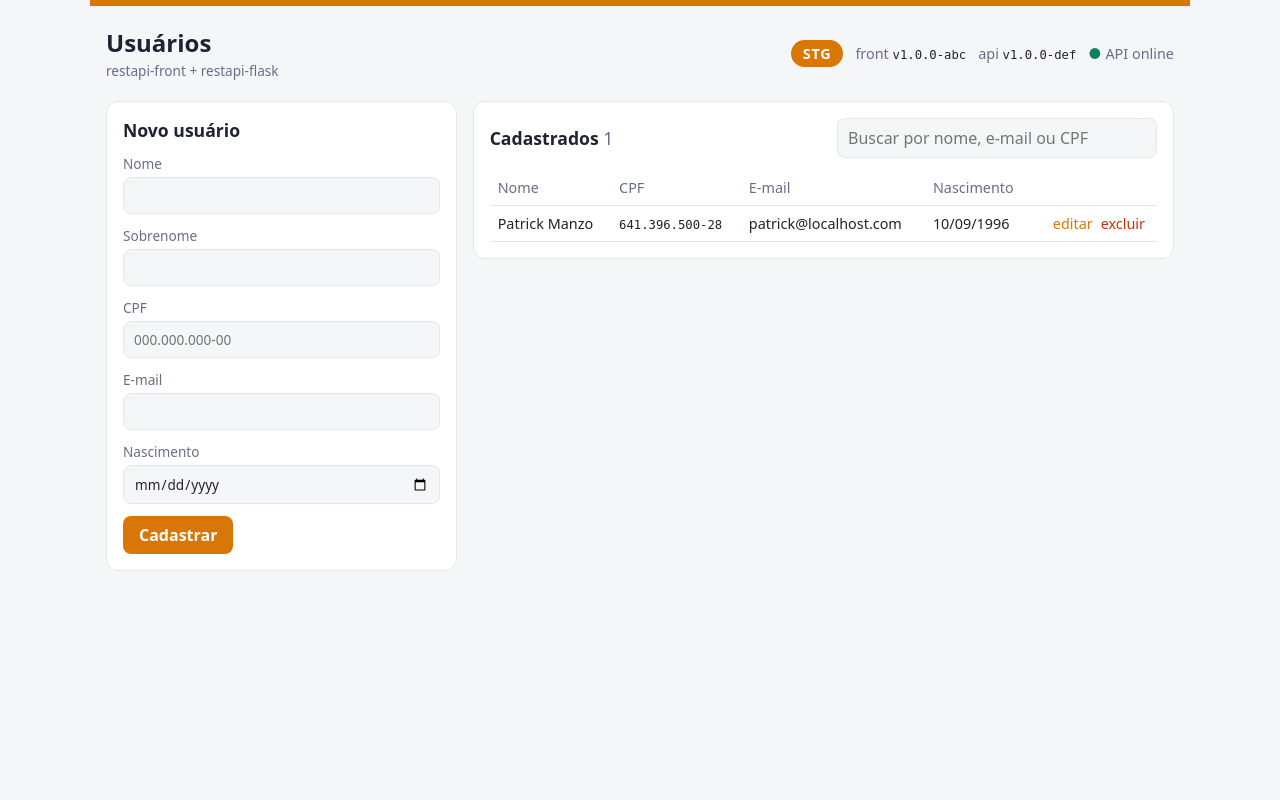
Scenario: App › mostra o erro da API ao cadastrar
Type "Patrick" into the field labelled "Nome". click: (281, 196)
box: [123,177,440,214]
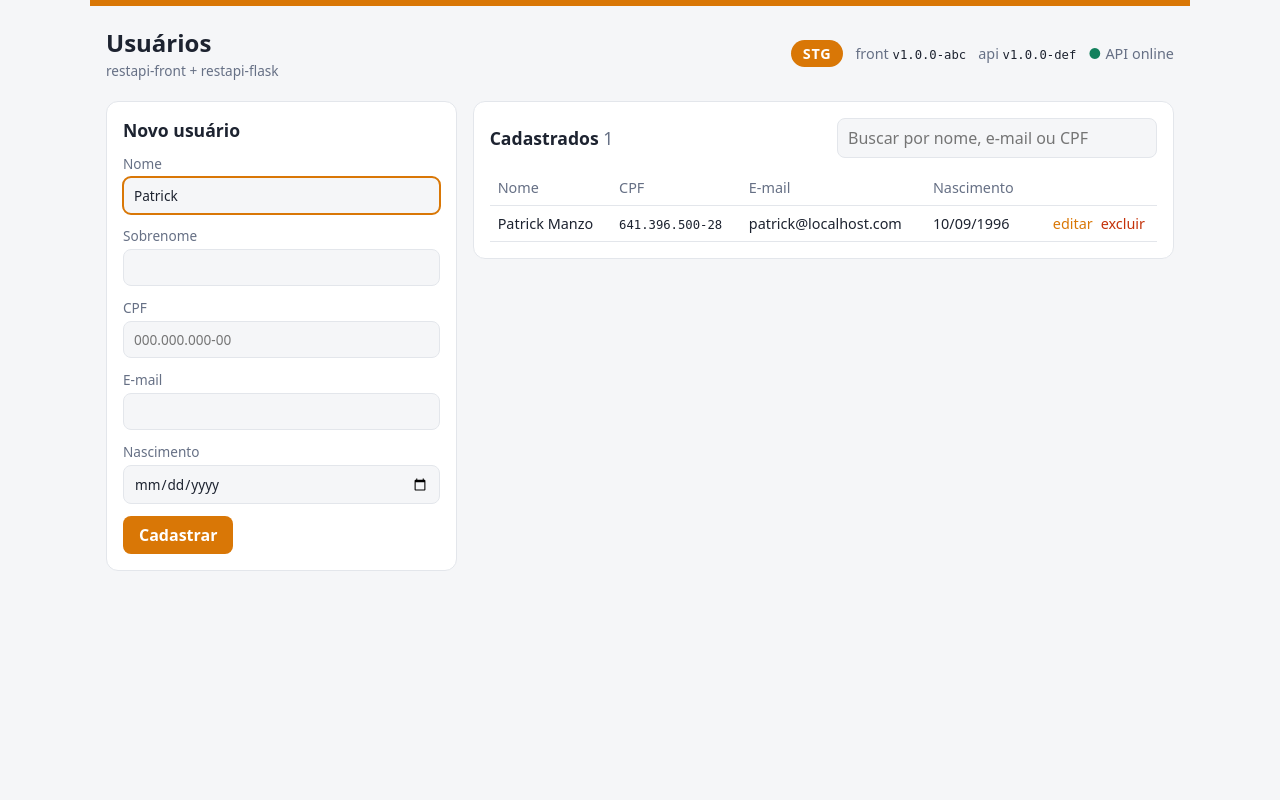
Type "Manzo" into the field labelled "Sobrenome". click: (281, 268)
box: [123,249,440,286]
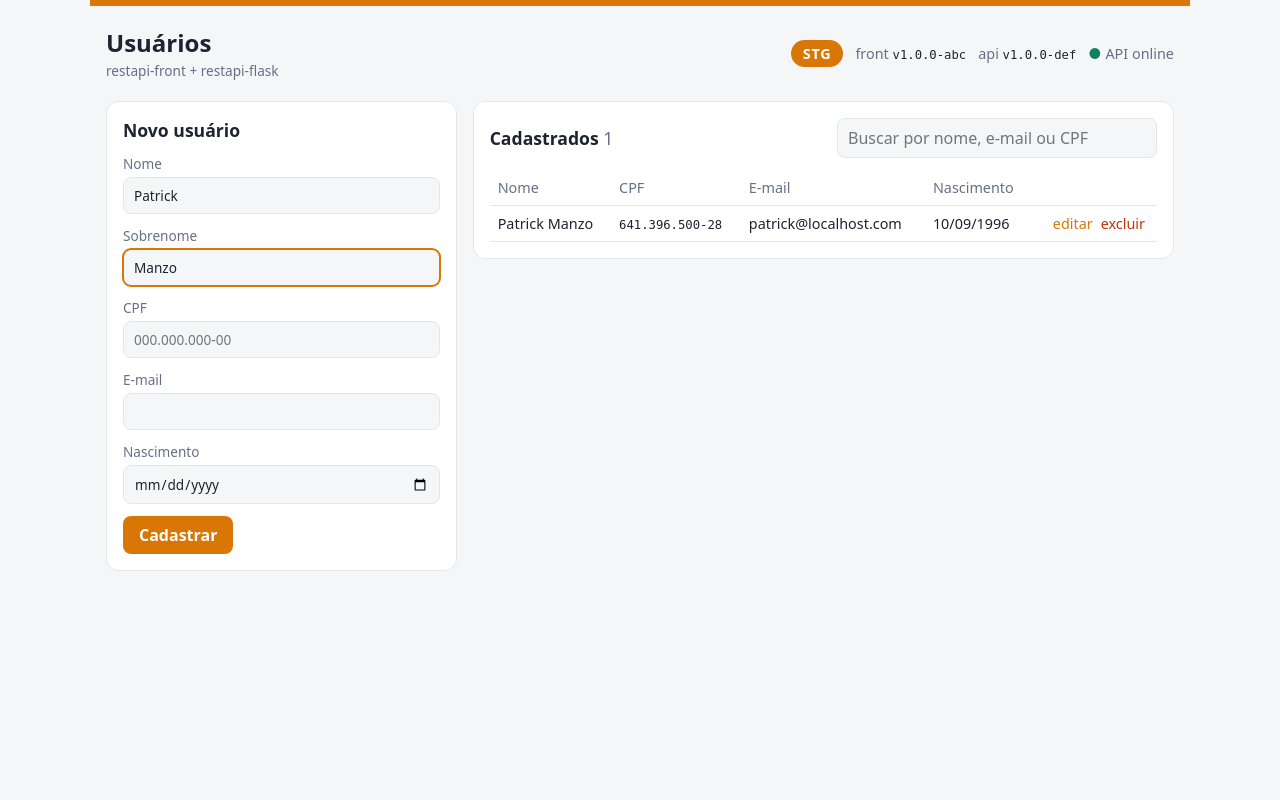
Type "64139650028" into the field labelled "CPF". click: (281, 340)
box: [123,321,440,358]
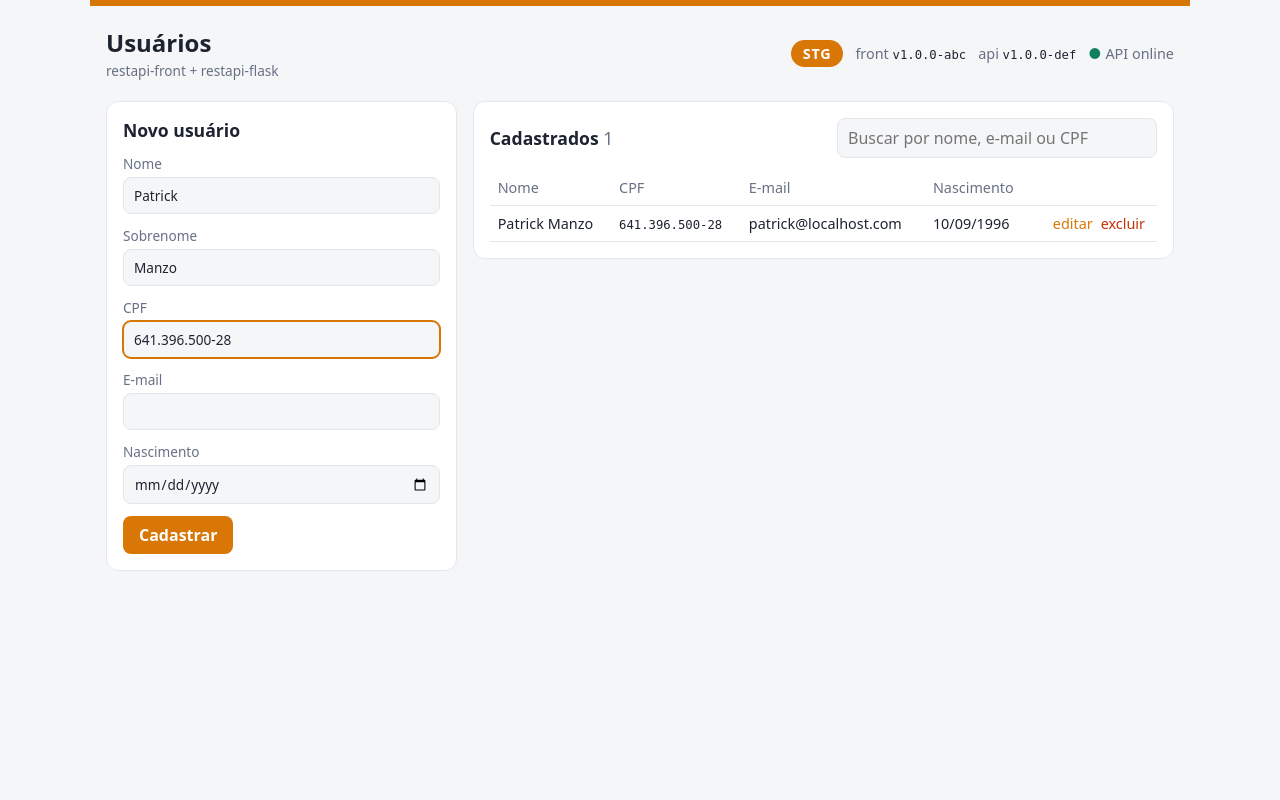
Type "patrick@localhost.com" into the field labelled "E-mail". click: (281, 412)
box: [123,393,440,430]
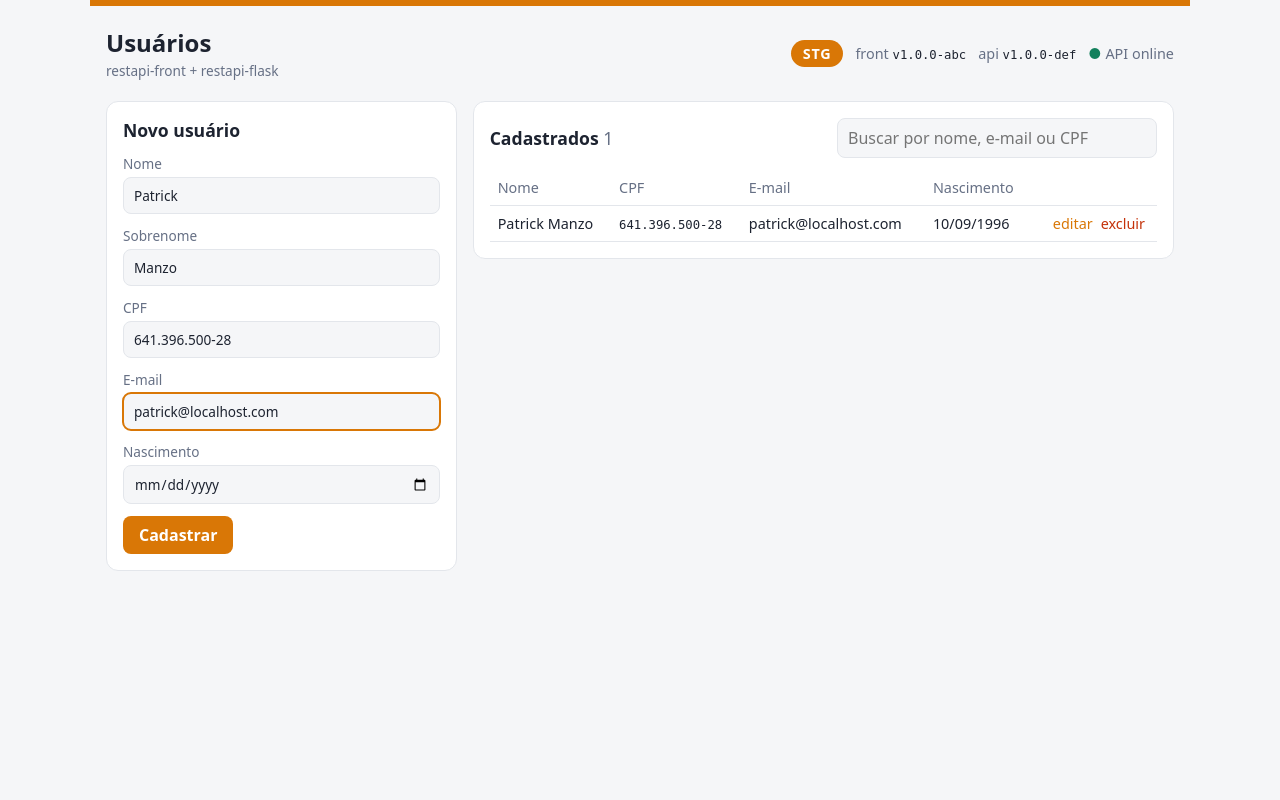
Type "1996-09-10" into the date field labelled "Nascimento". click: (281, 484)
box: [123,465,440,504]
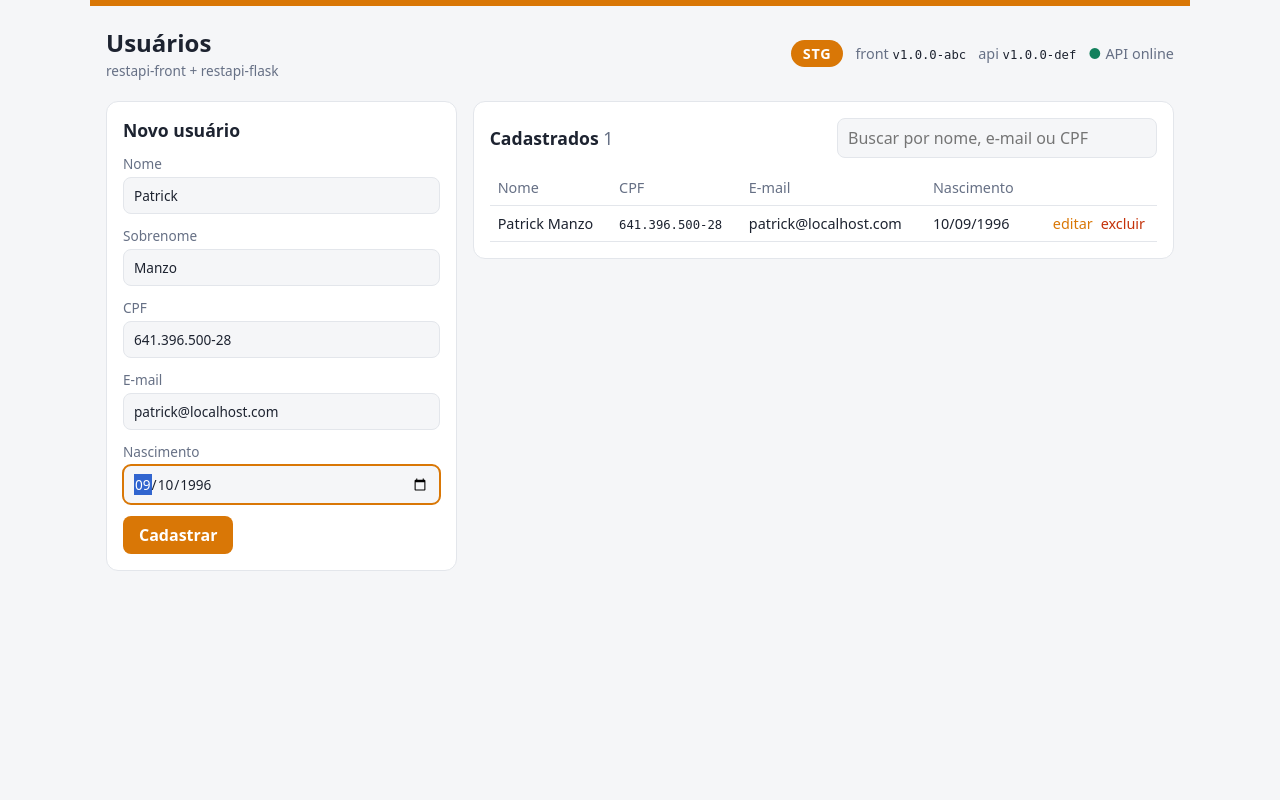
Click the button "Cadastrar". click: (178, 535)
box: [123,516,233,554]
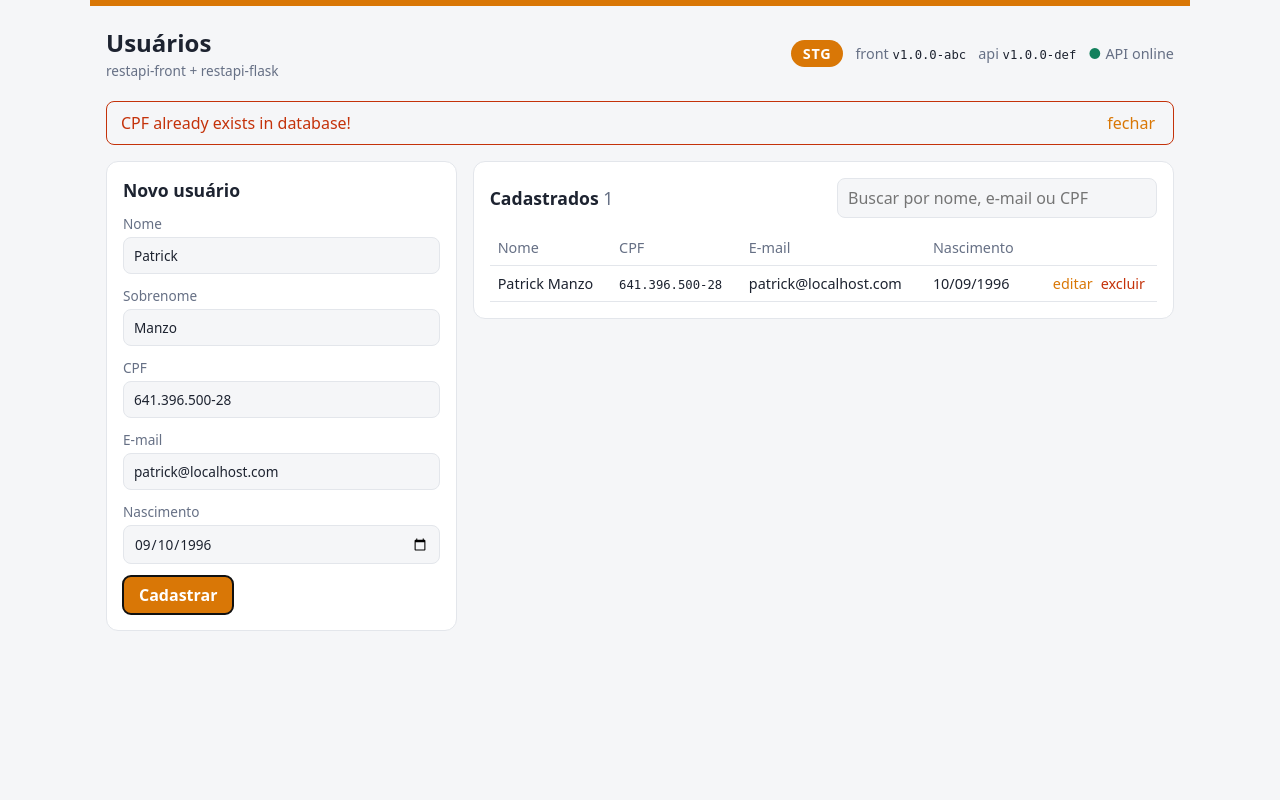
Check: the element showing "CPF already exists in database! fechar" is shown, box [106,101,1174,145]
